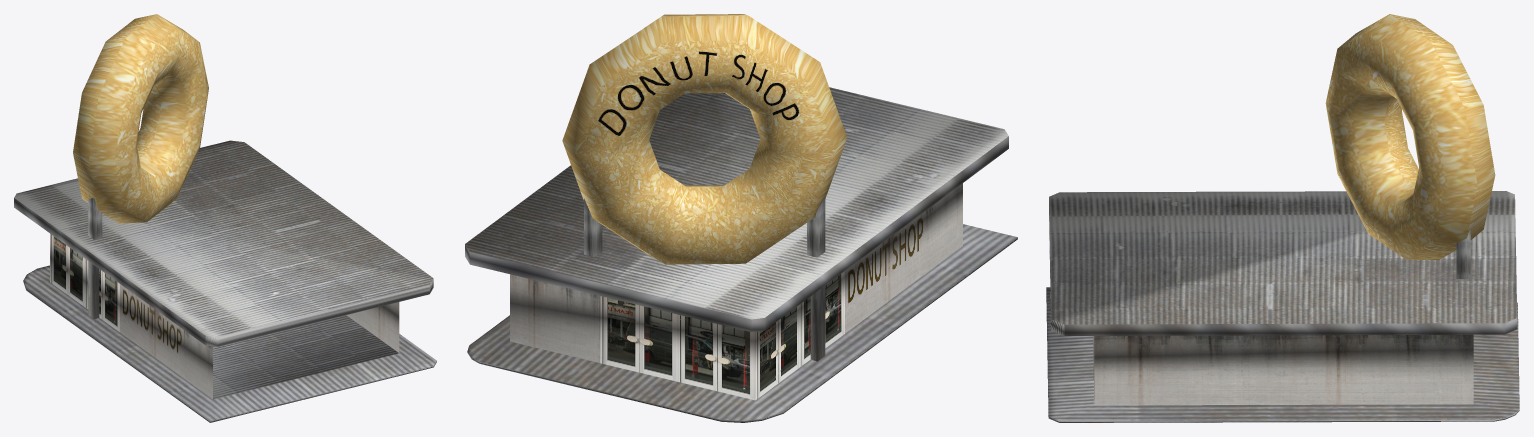
File: Donut_shop_522014.FBX
3 views of the same model, side by side, from view 1: azimuth 30°, elevation 25°; view 2: azimuth 150°, elevation 25°; view 3: azimuth 270°, elevation 25° (orthographic). The views are drawn at different scales.
Parts seen in each view (by area): view 1: Torus001; view 2: Torus001; view 3: Torus001.
Boxes of the visible parts, <box> form: Torus001: <box>14,14,436,422</box>; Torus001: <box>465,14,1017,422</box>; Torus001: <box>1046,14,1519,422</box>.
Size of the model in its own units: 90.89 by 97.24 by 135.
1 material, 1 textured.
